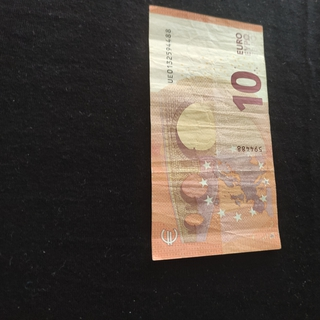10EUROBack: (148, 3, 282, 261)
